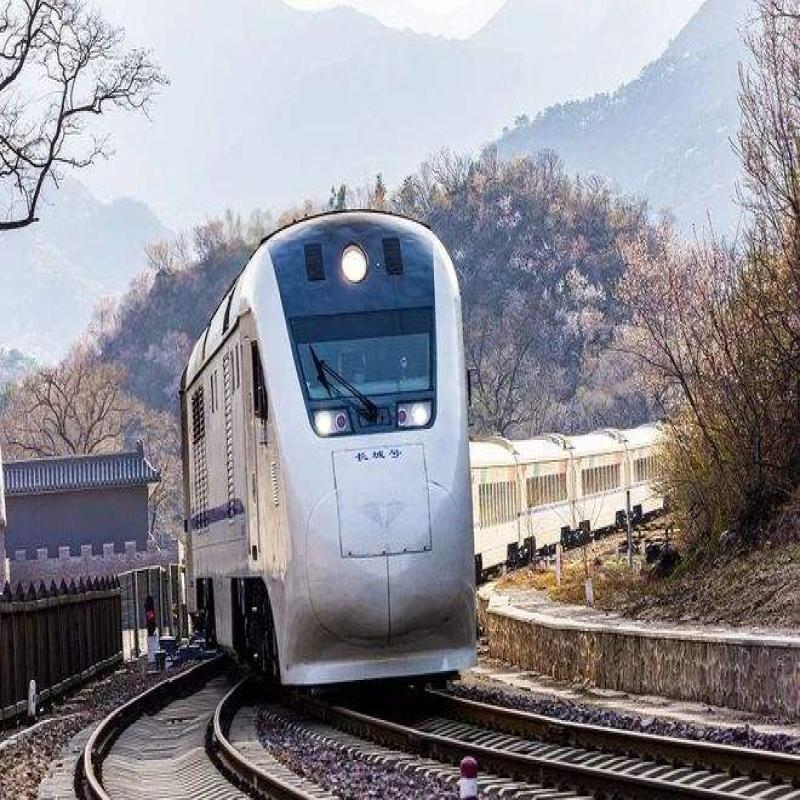train: (182, 230, 494, 707)
